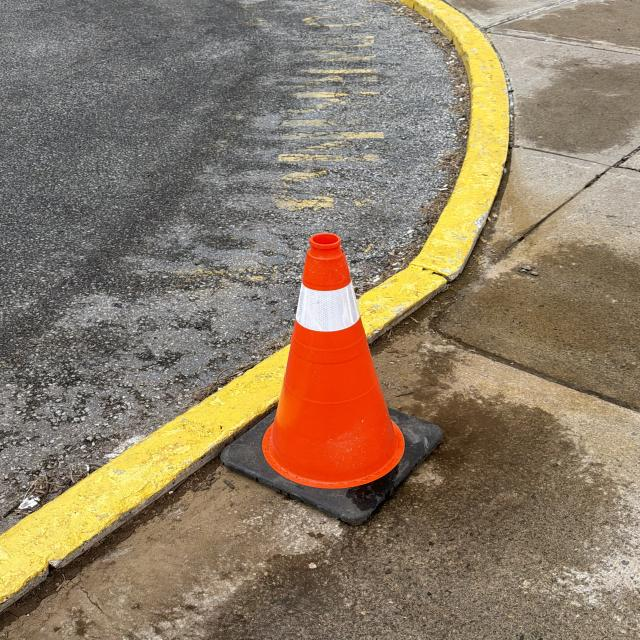Traffic Cone: (217, 236, 446, 523)
